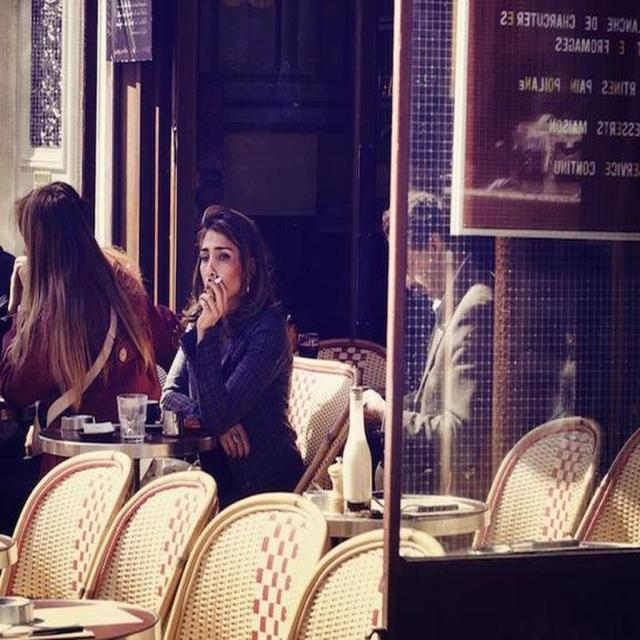smoking: (180, 254, 242, 338)
